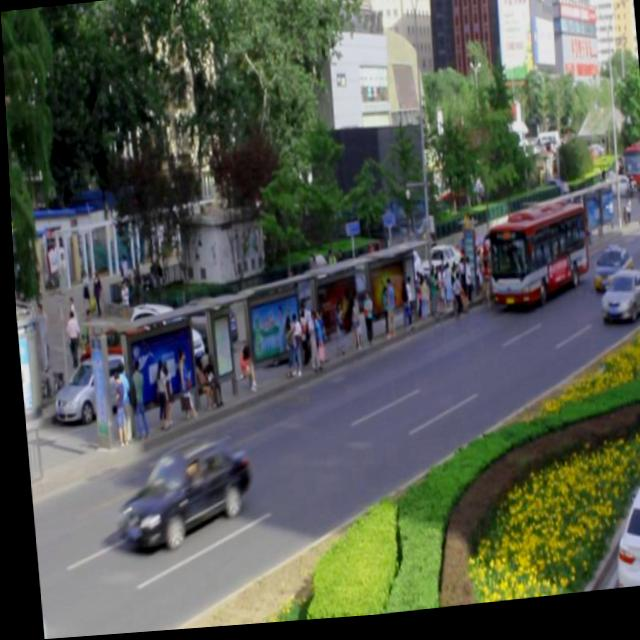car: (109, 436, 250, 554), (594, 275, 640, 332), (587, 252, 630, 301)
van: (480, 203, 588, 316)
